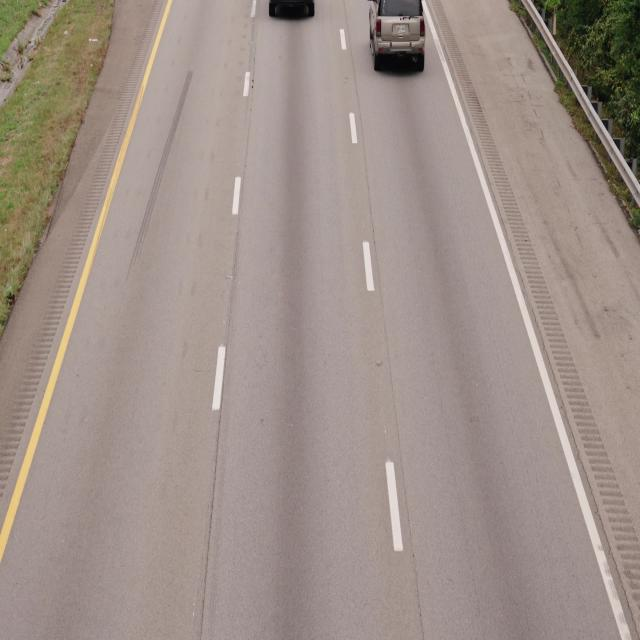Car: (357, 0, 430, 87)
